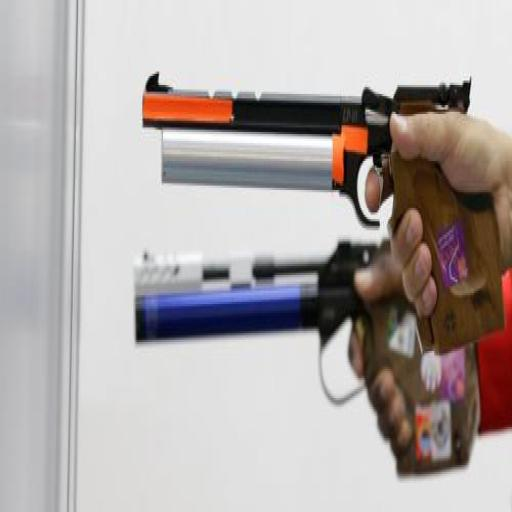shooting: (126, 54, 495, 494)
